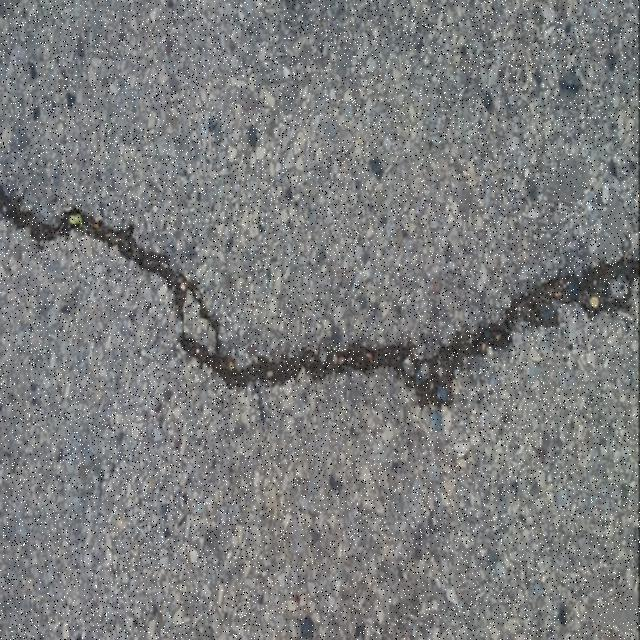Crack: (0, 166, 640, 420)
